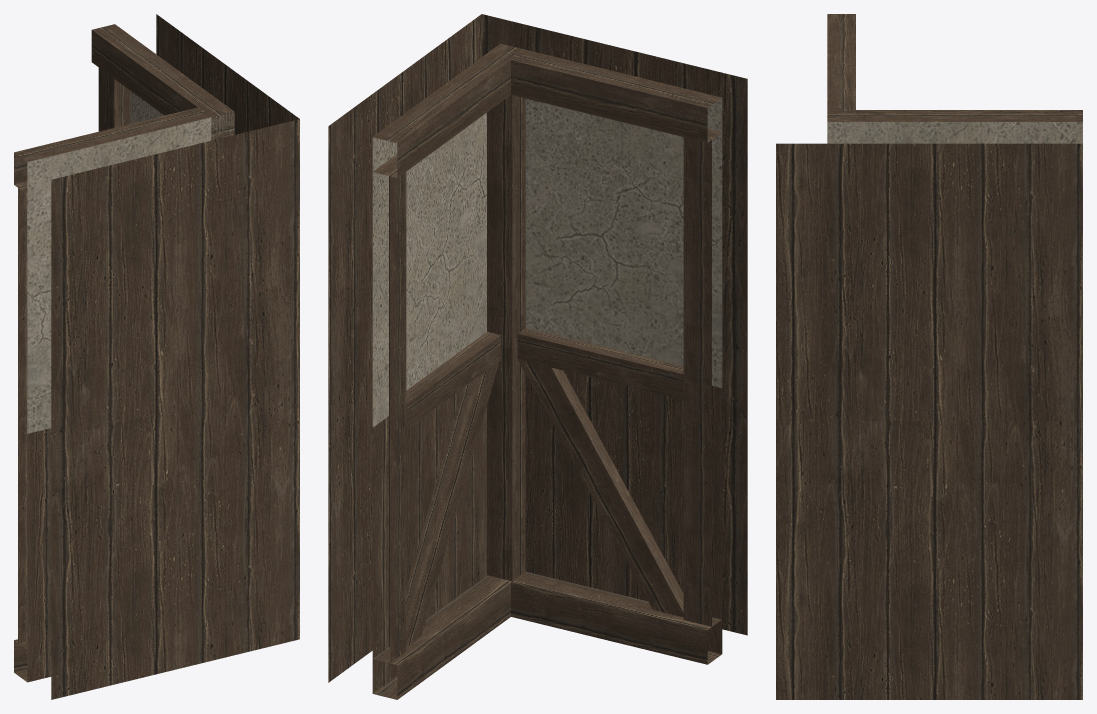
Rendered from ARC1010283.fbx.
3 views of the same model, side by side, from view 1: azimuth 30°, elevation 25°; view 2: azimuth 150°, elevation 25°; view 3: azimuth 270°, elevation 25° (orthographic). The views are drawn at different scales.
Visible parts, largest first — view 1: smARC1010283; view 2: smARC1010283; view 3: smARC1010283.
Boxes of the visible parts, x1,y1,x2,y2 form: smARC1010283: (14,14,299,699); smARC1010283: (328,14,747,699); smARC1010283: (776,14,1082,699).
Bounding box in the file's own units: 134 × 268 × 134.
1 material, 1 textured.
